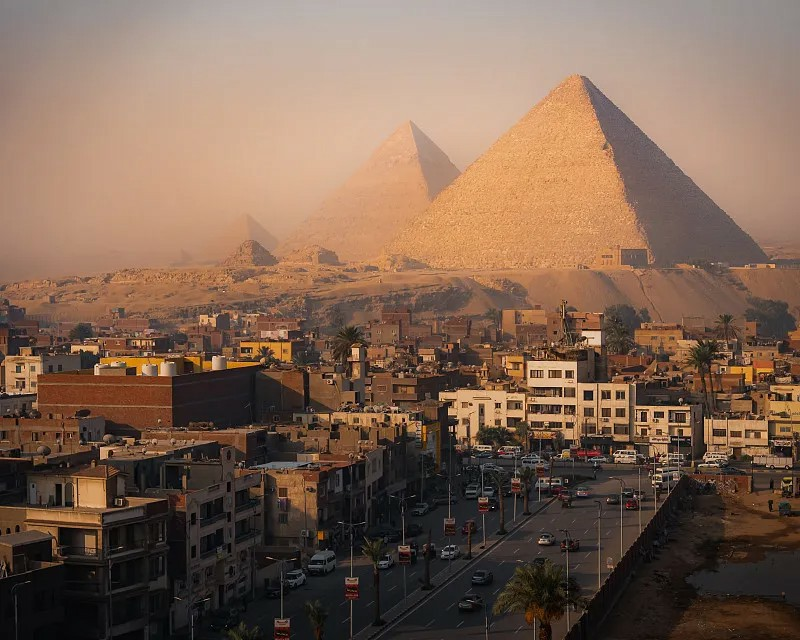Pyramid: (369, 73, 773, 266), (269, 118, 463, 261), (217, 241, 280, 266)
